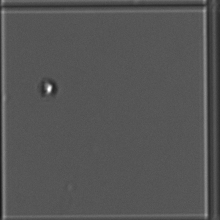Living Cell: (37, 78, 56, 97)
